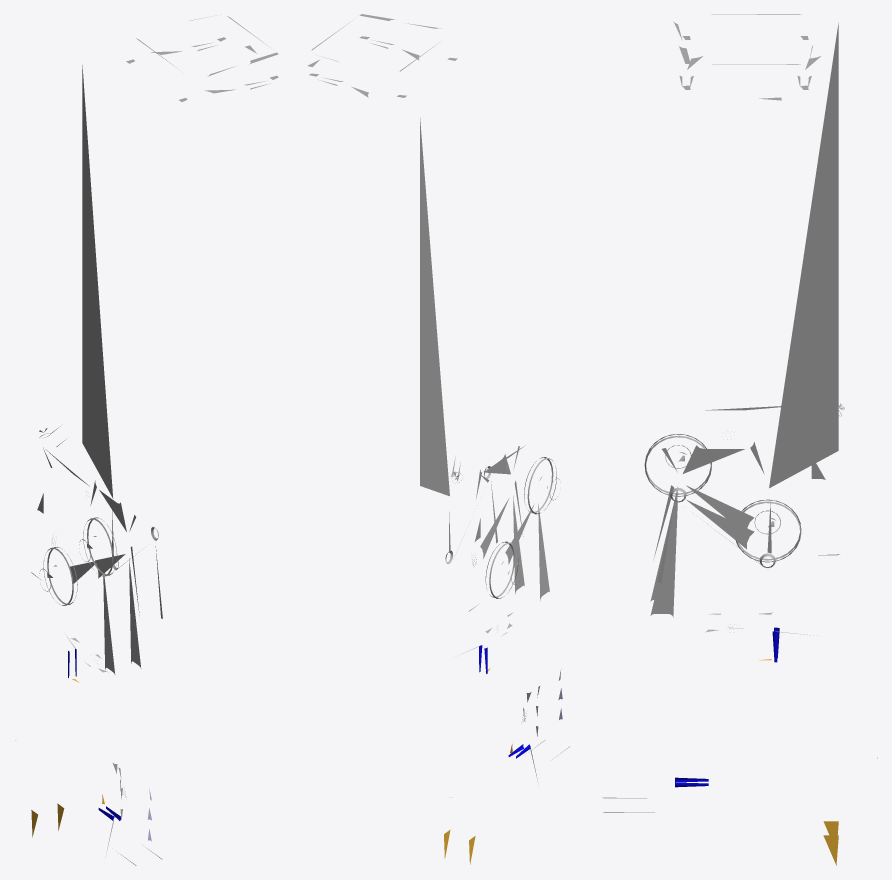
The picture shows the model from 3 angles, left to right: view 1: azimuth 30°, elevation 25°; view 2: azimuth 150°, elevation 25°; view 3: azimuth 270°, elevation 25°; orthographic projection. The views are drawn at different scales.
Parts seen in each view (by area): view 1: F19721000063102000129_001_zb_ub_auflage_29_fa (×2); view 2: F19721000063102000129_001_zb_ub_auflage_29_fa (×2); view 3: F19721000063102000129_001_zb_ub_auflage_29_fa (×2).
Part boxes in pixels (<box>): F19721000063102000129_001_zb_ub_auflage_29_fa (×2): <box>31,15,278,865</box>; F19721000063102000129_001_zb_ub_auflage_29_fa (×2): <box>307,14,569,781</box>; F19721000063102000129_001_zb_ub_auflage_29_fa (×2): <box>602,14,844,812</box>.
Size of the model in its own units: 163 by 165 by 580.
